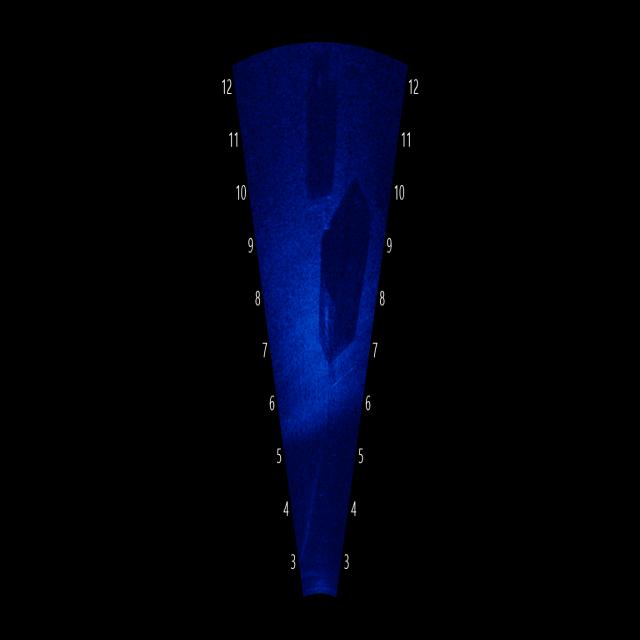square: (300, 151, 374, 389), (285, 50, 348, 205)
